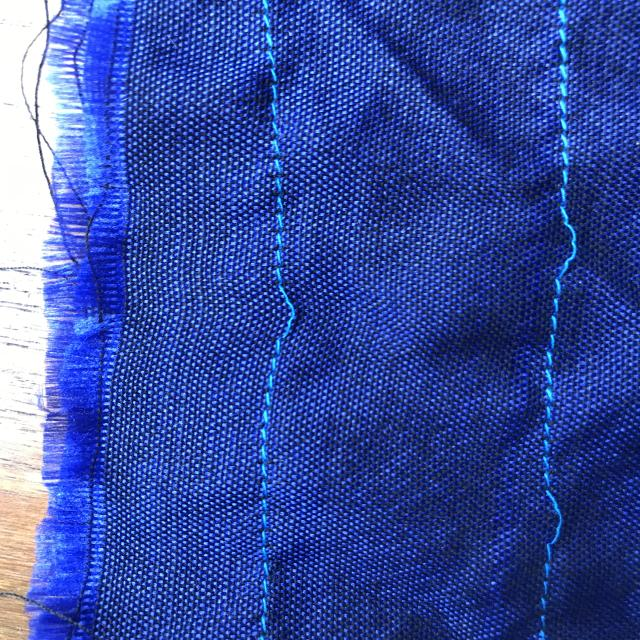skip: (248, 259, 319, 359), (515, 481, 587, 561), (532, 194, 592, 287)
